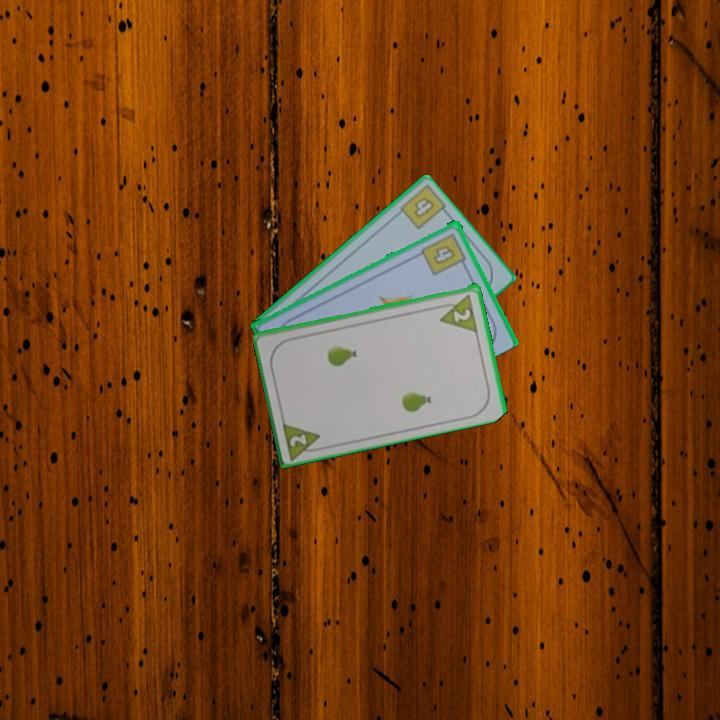2p: (279, 417, 327, 461), (434, 290, 481, 334)
4b: (418, 230, 469, 278), (410, 193, 438, 221)
